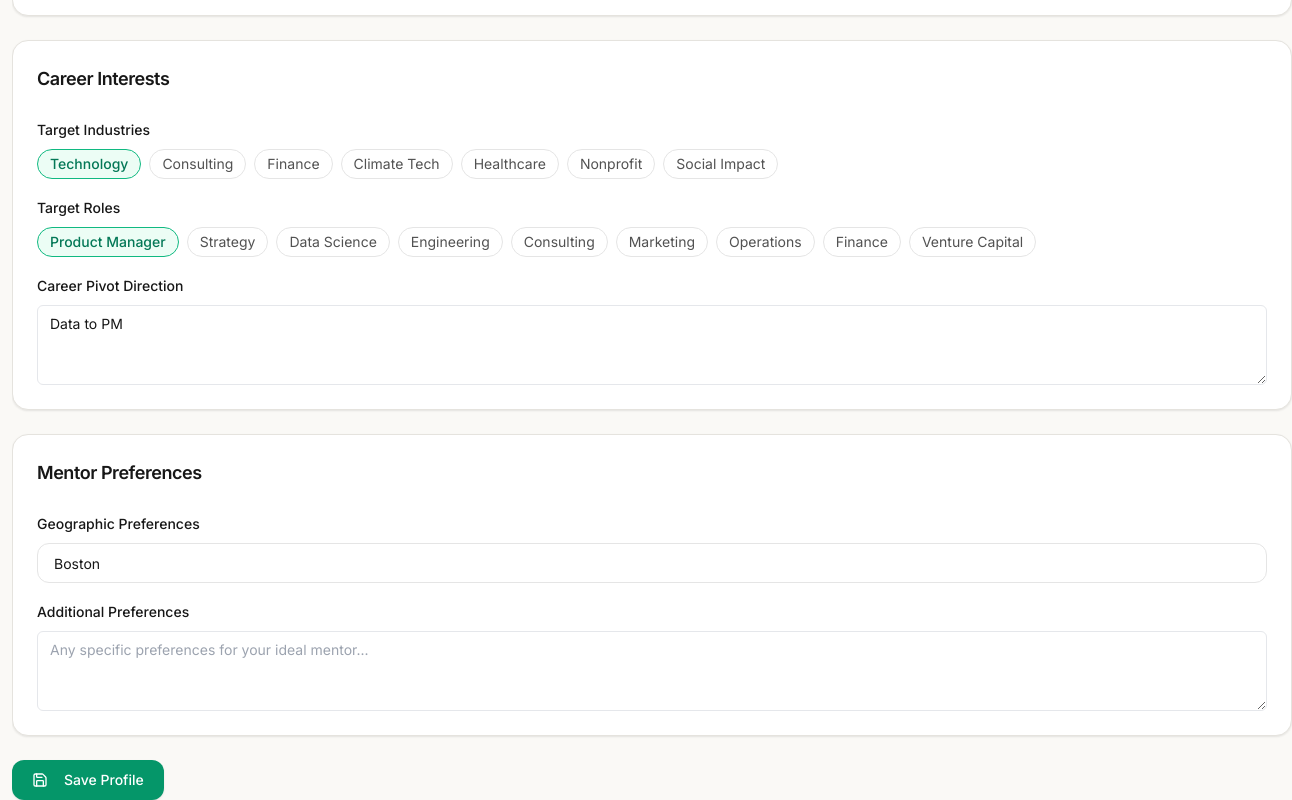
ProfileForm › shows success message after save
The image size is (1292, 800).
(page scrolled)
Click the button "Save Profile" at {"x": 88, "y": 780}, box [12,760,164,799]
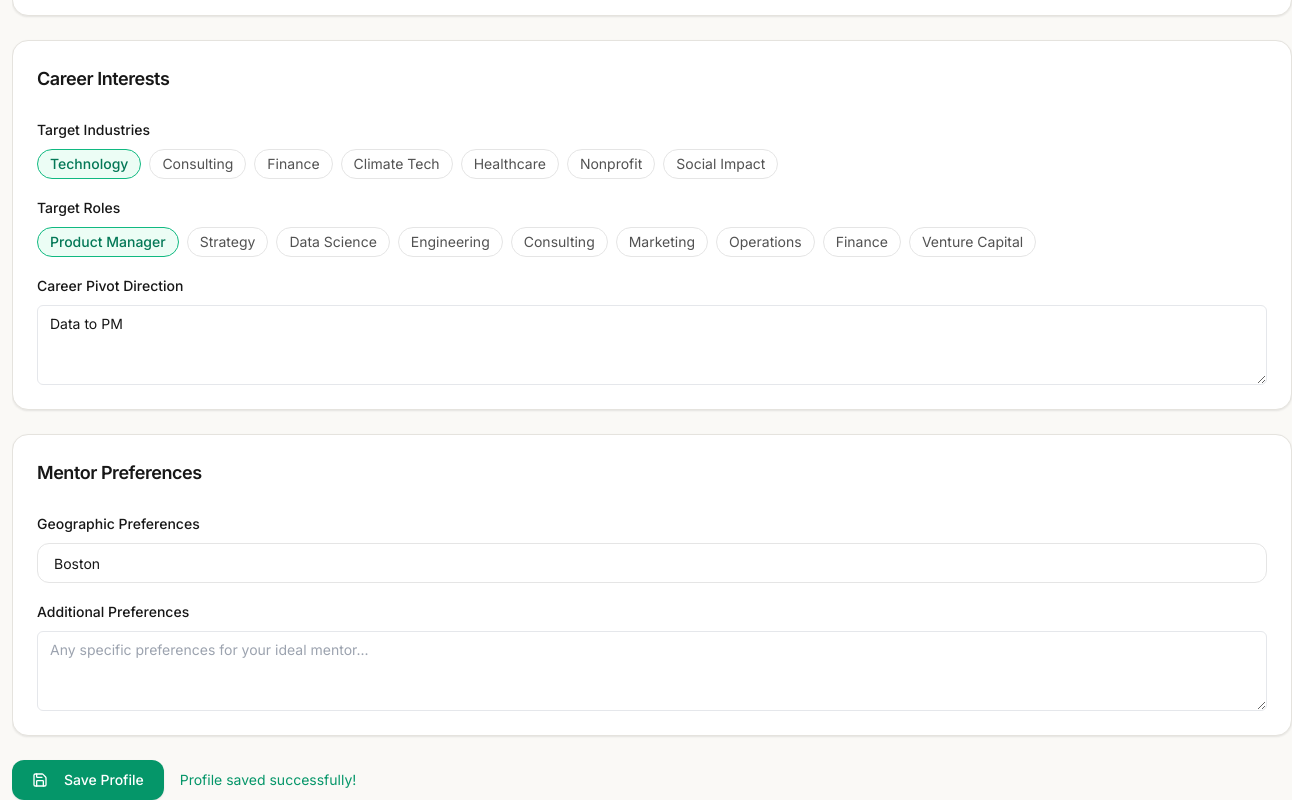
Expected: the text "Profile saved successfully!" is shown, [180,770,356,790]
